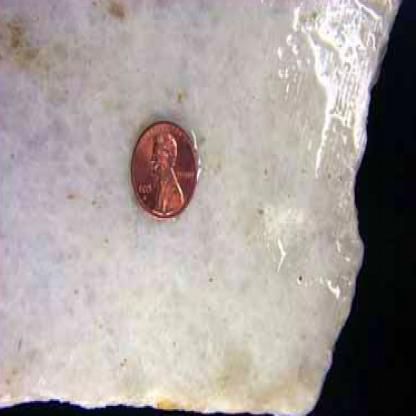Metamorphic_Marble: (1, 0, 405, 415)
